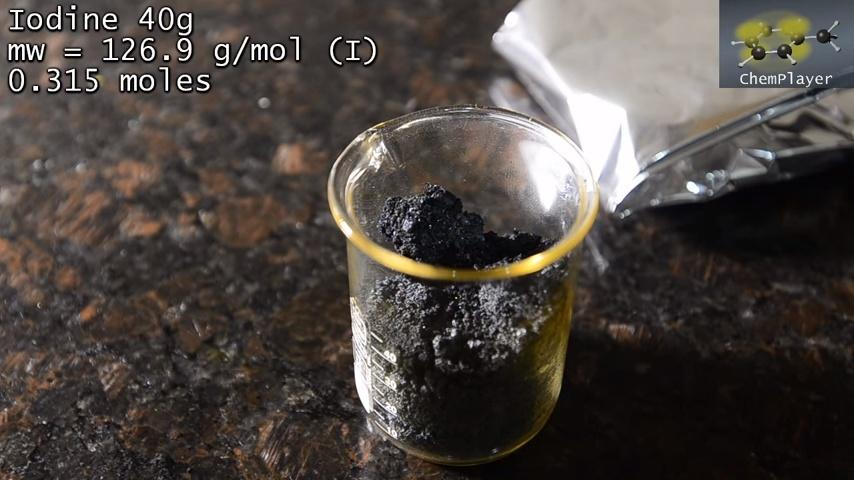Beaker: (324, 97, 582, 459)
